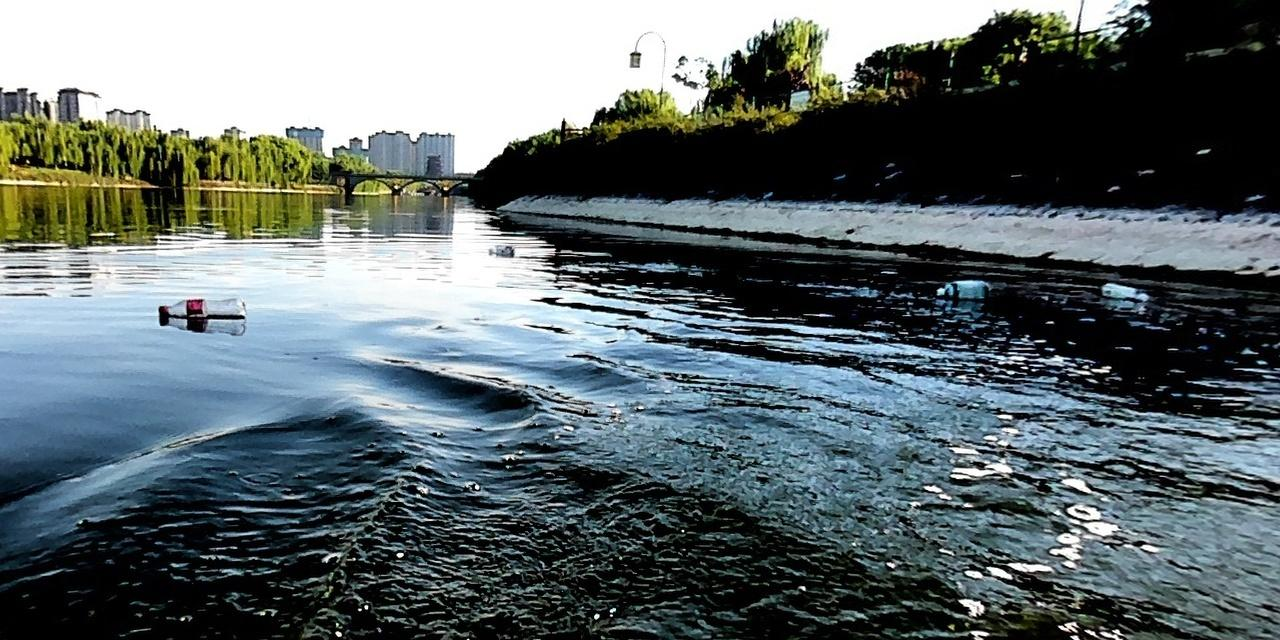bottle: (153, 293, 246, 321), (931, 274, 993, 303), (1099, 280, 1150, 302), (486, 241, 516, 256)
